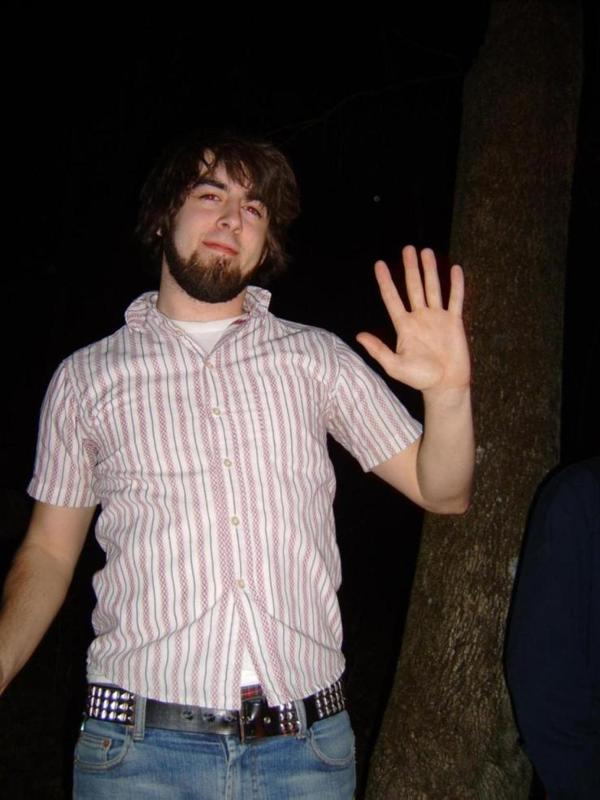person: (1, 121, 476, 800)
